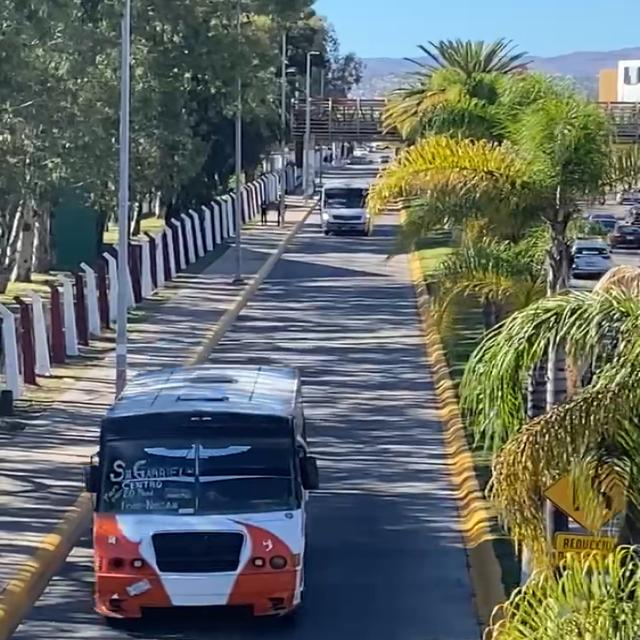Auto: (571, 243, 617, 279)
Autobus: (82, 369, 324, 622), (320, 178, 378, 236)
